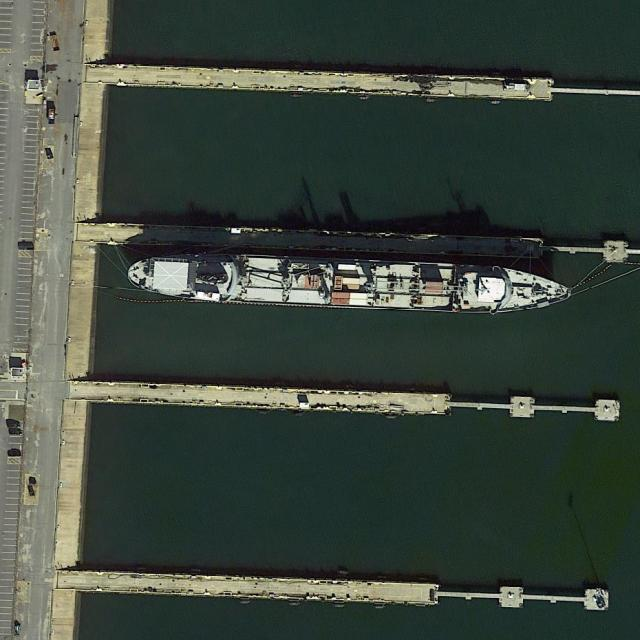Cargo: (126, 248, 572, 317)
Dock: (100, 222, 541, 260), (109, 64, 553, 98), (76, 570, 439, 606), (91, 383, 450, 416)
